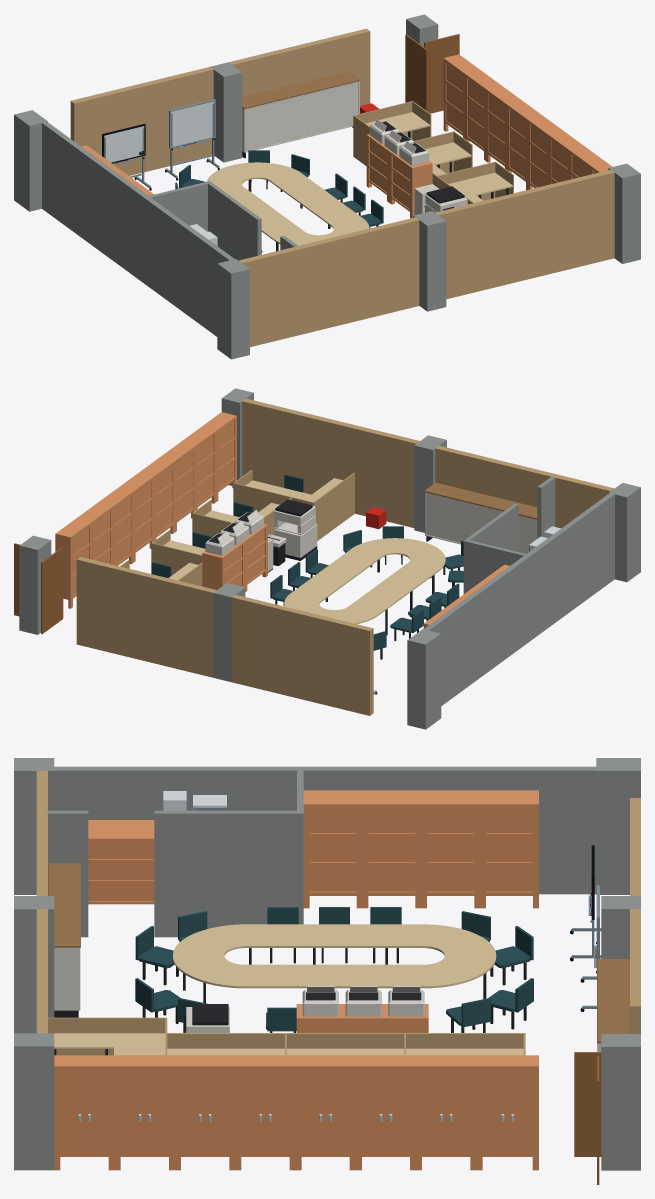
File: twothreeD-editable-draft.dae
3 views of the same model, one above another, from view 1: azimuth 30°, elevation 25°; view 2: azimuth 150°, elevation 25°; view 3: azimuth 270°, elevation 25° (orthographic). The views are drawn at different scales.
Visible parts, largest first — view 1: 水泥牆_W1, 輕隔間_L4, 輕隔間_L5, 輕隔間_L1, 櫃子_NC1___新作系統半高櫃, 桌子_T2___tabletop, 輕隔間_L2, 水泥牆_W2, 辦公屏風_L3, 柱_C4, 柱_C2, 柱_C1 (+20 smaller); view 2: 水泥牆_W1, 輕隔間_L5, 輕隔間_L1, 輕隔間_L2, 桌子_T2___tabletop, 輕隔間_L4, 辦公屏風_L3, 櫃子_NC6___新做系統半高櫃, 柱_C1, 水泥牆_W2, 柱_C4, 柱_C3 (+18 smaller); view 3: 水泥牆_W1, 水泥牆_W2, 桌子_T2___tabletop, 辦公屏風_L3, 高櫃_CB5___bookcaseClosedDoors_Clone_, 高櫃_CB7___bookcaseClosedDoors_Clone_, 高櫃_CB3___新做系統高櫃___bookcaseClosedDoors_Clone_, 高櫃_CB1___bookcaseClosedDoors_Clone_, 櫃子_NC5___新做茶水櫃___bookcaseClosedDoors_Clone_, 柱_C6, 柱_C3, 柱_C1 (+47 smaller).
Part boxes in pixels (left/top/right/bottom): 水泥牆_W1: left=42, top=122, right=234, bottom=336; 輕隔間_L4: left=238, top=217, right=419, bottom=347; 輕隔間_L5: left=435, top=169, right=614, bottom=299; 輕隔間_L1: left=70, top=67, right=213, bottom=175; 櫃子_NC1___新作系統半高櫃: left=242, top=71, right=360, bottom=158; 桌子_T2___tabletop: left=207, top=162, right=369, bottom=245; 輕隔間_L2: left=229, top=28, right=370, bottom=105; 水泥牆_W2: left=149, top=181, right=261, bottom=260; 辦公屏風_L3: left=353, top=101, right=513, bottom=204; 柱_C4: left=217, top=259, right=249, bottom=359; 柱_C2: left=210, top=62, right=242, bottom=162; 柱_C1: left=14, top=110, right=47, bottom=211; 水泥牆_W1: left=424, top=493, right=614, bottom=705; 輕隔間_L5: left=242, top=398, right=419, bottom=527; 輕隔間_L1: left=231, top=594, right=373, bottom=715; 輕隔間_L2: left=76, top=557, right=216, bottom=677; 桌子_T2___tabletop: left=284, top=538, right=445, bottom=624; 輕隔間_L4: left=435, top=445, right=614, bottom=528; 辦公屏風_L3: left=120, top=470, right=354, bottom=586; 櫃子_NC6___新做系統半高櫃: left=424, top=482, right=537, bottom=553; 柱_C1: left=407, top=629, right=441, bottom=729; 水泥牆_W2: left=463, top=503, right=525, bottom=593; 柱_C4: left=608, top=483, right=640, bottom=582; 柱_C3: left=19, top=535, right=51, bottom=634; 水泥牆_W1: left=54, top=766, right=596, bottom=894; 水泥牆_W2: left=154, top=770, right=303, bottom=937; 桌子_T2___tabletop: left=173, top=924, right=496, bottom=988; 辦公屏風_L3: left=48, top=1017, right=525, bottom=1055; 高櫃_CB5___bookcaseClosedDoors_Clone_: left=362, top=790, right=421, bottom=908; 高櫃_CB7___bookcaseClosedDoors_Clone_: left=303, top=790, right=362, bottom=908; 高櫃_CB3___新做系統高櫃___bookcaseClosedDoors_Clone_: left=421, top=790, right=479, bottom=908; 高櫃_CB1___bookcaseClosedDoors_Clone_: left=480, top=790, right=538, bottom=908; 櫃子_NC5___新做茶水櫃___bookcaseClosedDoors_Clone_: left=88, top=820, right=154, bottom=904; 柱_C6: left=14, top=1033, right=54, bottom=1170; 柱_C3: left=601, top=1034, right=640, bottom=1170; 柱_C1: left=596, top=758, right=640, bottom=894.
Size of the model in its own units: 13123 by 11477 by 2500.
